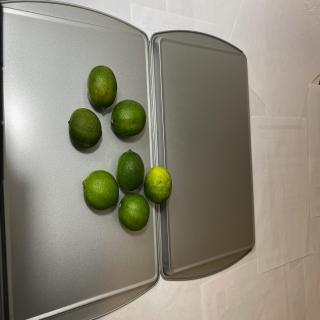Chilli: (68, 64, 172, 232)
Lemon: (82, 170, 119, 210), (68, 108, 102, 148), (87, 65, 117, 110), (118, 192, 150, 232), (116, 149, 144, 191), (144, 166, 172, 204)
